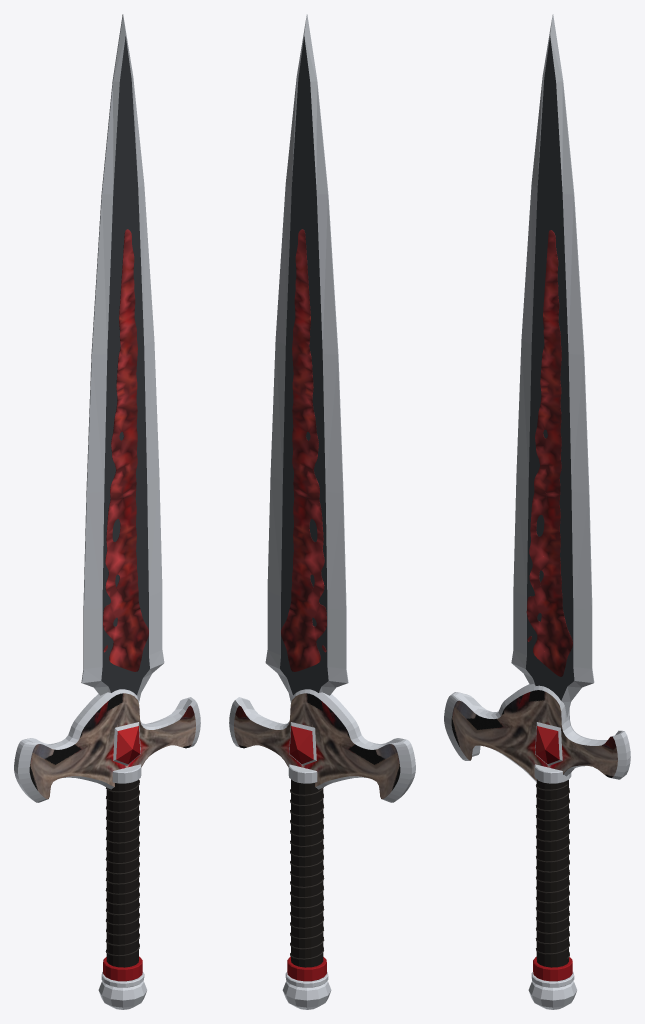
Rendered from role4-sword.glb.
3 views of the same model, side by side, from view 1: azimuth 30°, elevation 25°; view 2: azimuth 150°, elevation 25°; view 3: azimuth 330°, elevation 25° (orthographic).
Visible parts, largest first — view 1: Role4 reference sword; view 2: Role4 reference sword; view 3: Role4 reference sword.
Boxes of the visible parts, x1,y1,x2,y2 form: Role4 reference sword: [14, 14, 200, 1009]; Role4 reference sword: [229, 14, 415, 1009]; Role4 reference sword: [444, 14, 630, 1009].
Size of the model in its own units: 0.1815 by 0.942 by 0.042.
Materials: 9 (1 with a texture image).
